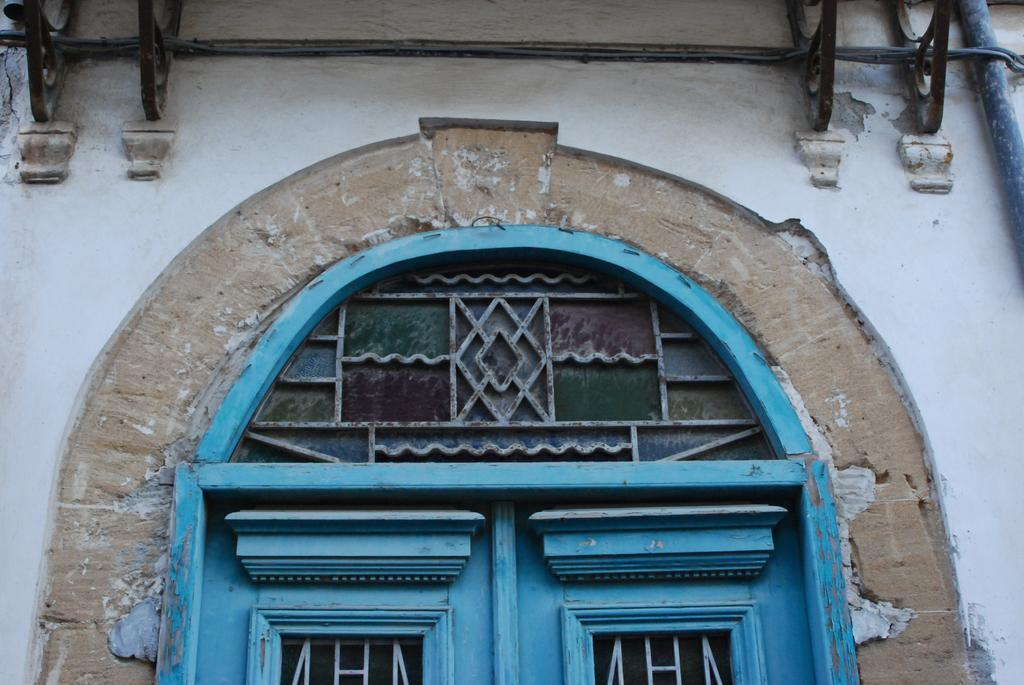door: (206, 511, 496, 685), (524, 508, 787, 685)
